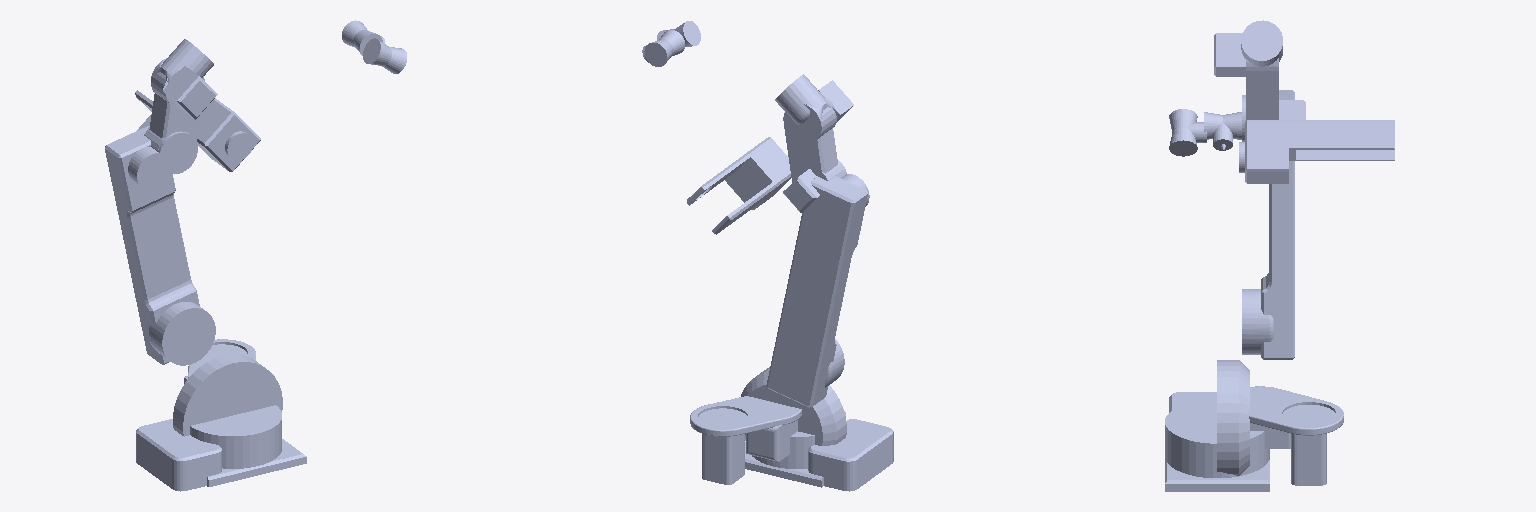
robot.urdf — robot_coco:
<?xml version="1.0" encoding="utf-8"?>
<!-- This URDF was automatically created by SolidWorks to URDF Exporter! Originally created by [author] ([email redacted]) 
     Commit Version: 1.6.0-4-g7f85cfe  Build Version: 1.6.7995.38578
     For more information, please see http://wiki.ros.org/sw_urdf_exporter -->
<robot
  name="robot_coco">
  <link
    name="base_link_coco">
    <inertial>
      <origin
        xyz="-0.0764021530191945 2.7134934886552E-05 0.0792317455056668"
        rpy="0 0 0" />
      <mass
        value="33.7641312353281" />
      <inertia
        ixx="0.388653917501998"
        ixy="4.13251669969691E-18"
        ixz="6.82570301647603E-05"
        iyy="0.347678993710906"
        iyz="9.1636908185897E-18"
        izz="0.646698533818771" />
    </inertial>
    <visual>
      <origin
        xyz="0 0 0"
        rpy="0 0 0" />
      <geometry>
        <mesh
          filename="package://robot_coco/meshes/base_link_coco.STL" />
      </geometry>
      <material
        name="">
        <color
          rgba="0.792156862745098 0.819607843137255 0.933333333333333 1" />
      </material>
    </visual>
    <collision>
      <origin
        xyz="0 0 0"
        rpy="0 0 0" />
      <geometry>
        <mesh
          filename="package://my_robot_urdf/meshes/base_link_coco.STL" />
      </geometry>
    </collision>
  </link>
  <link
    name="arm_link_1_coco">
    <inertial>
      <origin
        xyz="-0.0310954578647586 0.00332496023117711 0.134341853376388"
        rpy="0 0 0" />
      <mass
        value="28.7973325809481" />
      <inertia
        ixx="0.316024916828851"
        ixy="-0.000189061034524889"
        ixz="0.0129236801369765"
        iyy="0.322997369549128"
        iyz="0.000316914959622083"
        izz="0.500692862333896" />
    </inertial>
    <visual>
      <origin
        xyz="0 0 0"
        rpy="0 0 0" />
      <geometry>
        <mesh
          filename="package://my_robot_urdf/meshes/arm_link_1_coco.STL" />
      </geometry>
      <material
        name="">
        <color
          rgba="0.792156862745098 0.819607843137255 0.933333333333333 1" />
      </material>
    </visual>
    <collision>
      <origin
        xyz="0 0 0"
        rpy="0 0 0" />
      <geometry>
        <mesh
          filename="package://my_robot_urdf/meshes/arm_link_1_coco.STL" />
      </geometry>
    </collision>
  </link>
  <joint
    name="joint_link_1_coco"
    type="revolute">
    <origin
      xyz="0 0 0.18"
      rpy="0 0 0" />
    <parent
      link="base_link_coco" />
    <child
      link="arm_link_1_coco" />
    <axis
      xyz="0 0 1" />
    <limit
      lower="-3.1416"
      upper="3.1416"
      effort="0"
      velocity="0" />
  </joint>
  <link
    name="arm_link_2_coco">
    <inertial>
      <origin
        xyz="-0.000939286588189411 0.316348210123725 0.119016776091287"
        rpy="0 0 0" />
      <mass
        value="29.9902849835083" />
      <inertia
        ixx="2.04087599375797"
        ixy="2.71567837661912E-12"
        ixz="6.90866563725407E-18"
        iyy="0.14290036636914"
        iyz="7.40531967035574E-16"
        izz="2.11684381896841" />
    </inertial>
    <visual>
      <origin
        xyz="0 0 0"
        rpy="0 0 0" />
      <geometry>
        <mesh
          filename="package://my_robot_urdf/meshes/arm_link_2_coco.STL" />
      </geometry>
      <material
        name="">
        <color
          rgba="0.792156862745098 0.819607843137255 0.933333333333333 1" />
      </material>
    </visual>
    <collision>
      <origin
        xyz="0 0 0"
        rpy="0 0 0" />
      <geometry>
        <mesh
          filename="package://my_robot_urdf/meshes/arm_link_2_coco.STL" />
      </geometry>
    </collision>
  </link>
  <joint
    name="joint_link_2_coco"
    type="revolute">
    <origin
      xyz="-0.14579 0.090292 0.33595"
      rpy="1.5708 0.12064 -3.1416" />
    <parent
      link="arm_link_1_coco" />
    <child
      link="arm_link_2_coco" />
    <axis
      xyz="0 0 1" />
    <limit
      lower="-3.1416"
      upper="3.1416"
      effort="0"
      velocity="0" />
  </joint>
  <link
    name="arm_link_3_coco">
    <inertial>
      <origin
        xyz="0.112633238505252 -0.0799322649464853 0.0667859681669811"
        rpy="0 0 0" />
      <mass
        value="16.9402164034933" />
      <inertia
        ixx="0.147883770330323"
        ixy="0.094818491141768"
        ixz="0.0176568765175328"
        iyy="0.195654931378514"
        iyz="-0.0116926814719466"
        izz="0.274178448217779" />
    </inertial>
    <visual>
      <origin
        xyz="0 0 0"
        rpy="0 0 0" />
      <geometry>
        <mesh
          filename="package://my_robot_urdf/meshes/arm_link_3_coco.STL" />
      </geometry>
      <material
        name="">
        <color
          rgba="0.792156862745098 0.819607843137255 0.933333333333333 1" />
      </material>
    </visual>
    <collision>
      <origin
        xyz="0 0 0"
        rpy="0 0 0" />
      <geometry>
        <mesh
          filename="package://my_robot_urdf/meshes/arm_link_3_coco.STL" />
      </geometry>
    </collision>
  </link>
  <joint
    name="joint_link_3_coco"
    type="revolute">
    <origin
      xyz="0.0017779 0.76236 0"
      rpy="3.1416 0 2.5562" />
    <parent
      link="arm_link_2_coco" />
    <child
      link="arm_link_3_coco" />
    <axis
      xyz="0 0 -1" />
    <limit
      lower="-3.1416"
      upper="3.1416"
      effort="0"
      velocity="0" />
  </joint>
  <link
    name="arm_link_4_coco">
    <inertial>
      <origin
        xyz="0.00566743707878439 0.0432831775720403 0.283218920418927"
        rpy="0 0 0" />
      <mass
        value="7.44374239326319" />
      <inertia
        ixx="0.159458719225964"
        ixy="-2.32546035320198E-05"
        ixz="0.000318756137369379"
        iyy="0.170907372375113"
        iyz="0.00563574921699865"
        izz="0.0394445449966552" />
    </inertial>
    <visual>
      <origin
        xyz="0 0 0"
        rpy="0 0 0" />
      <geometry>
        <mesh
          filename="package://my_robot_urdf/meshes/arm_link_4_coco.STL" />
      </geometry>
      <material
        name="">
        <color
          rgba="0.792156862745098 0.819607843137255 0.933333333333333 1" />
      </material>
    </visual>
    <collision>
      <origin
        xyz="0 0 0"
        rpy="0 0 0" />
      <geometry>
        <mesh
          filename="package://my_robot_urdf/meshes/arm_link_4_coco.STL" />
      </geometry>
    </collision>
  </link>
  <joint
    name="joint_link_4_coco"
    type="revolute">
    <origin
      xyz="0.25011 -0.19918 0.073652"
      rpy="0 1.5708 0" />
    <parent
      link="arm_link_3_coco" />
    <child
      link="arm_link_4_coco" />
    <axis
      xyz="0 0 1" />
    <limit
      lower="-3.1416"
      upper="3.1416"
      effort="0"
      velocity="0" />
  </joint>
  <link
    name="arm_link_5_coco">
    <inertial>
      <origin
        xyz="0.0327073579947649 0.000399930122569447 -0.00635056152962845"
        rpy="0 0 0" />
      <mass
        value="1.52714461517355" />
      <inertia
        ixx="0.00405781083568541"
        ixy="-2.52022895116163E-06"
        ixz="-3.23424295631454E-07"
        iyy="0.00340193548011777"
        iyz="-3.63483013490502E-18"
        izz="0.00209047100682797" />
    </inertial>
    <visual>
      <origin
        xyz="0 0 0"
        rpy="0 0 0" />
      <geometry>
        <mesh
          filename="package://my_robot_urdf/meshes/arm_link_5_coco.STL" />
      </geometry>
      <material
        name="">
        <color
          rgba="0.792156862745098 0.819607843137255 0.933333333333333 1" />
      </material>
    </visual>
    <collision>
      <origin
        xyz="0 0 0"
        rpy="0 0 0" />
      <geometry>
        <mesh
          filename="package://my_robot_urdf/meshes/arm_link_5_coco.STL" />
      </geometry>
    </collision>
  </link>
  <joint
    name="joint_link_5_coco"
    type="revolute">
    <origin
      xyz="0 0.0061313 0.60723"
      rpy="1.5708 -0.32663 -1.5708" />
    <parent
      link="arm_link_4_coco" />
    <child
      link="arm_link_5_coco" />
    <axis
      xyz="0 0 1" />
    <limit
      lower="-3.1416"
      upper="3.1416"
      effort="0"
      velocity="0" />
  </joint>
  <link
    name="arm_link_6_coco">
    <inertial>
      <origin
        xyz="6.83827994230057E-15 4.91162666094169E-13 0.00209660536067713"
        rpy="0 0 0" />
      <mass
        value="0.0783717856165202" />
      <inertia
        ixx="3.89729060157441E-05"
        ixy="-4.73467751418064E-22"
        ixz="3.90642805809135E-22"
        iyy="3.89729060157441E-05"
        iyz="-1.35525271560672E-20"
        izz="7.68229526638506E-05" />
    </inertial>
    <visual>
      <origin
        xyz="0 0 0"
        rpy="0 0 0" />
      <geometry>
        <mesh
          filename="package://my_robot_urdf/meshes/arm_link_6_coco.STL" />
      </geometry>
      <material
        name="">
        <color
          rgba="0.792156862745098 0.819607843137255 0.933333333333333 1" />
      </material>
    </visual>
    <collision>
      <origin
        xyz="0 0 0"
        rpy="0 0 0" />
      <geometry>
        <mesh
          filename="package://my_robot_urdf/meshes/arm_link_6_coco.STL" />
      </geometry>
    </collision>
  </link>
  <joint
    name="arm_joint_6_coco"
    type="revolute">
    <origin
      xyz="0.088678 -0.00048689 -0.0063488"
      rpy="0 1.5708 0" />
    <parent
      link="arm_link_5_coco" />
    <child
      link="arm_link_6_coco" />
    <axis
      xyz="0 0 1" />
    <limit
      lower="-3.1416"
      upper="3.1416"
      effort="0"
      velocity="0" />
  </joint>
  <link
    name="eef_link_coco">
    <inertial>
      <origin
        xyz="-0.000160574398918121 1.1733226914501E-05 -0.0505537897313374"
        rpy="0 0 0" />
      <mass
        value="0.0881458860458235" />
      <inertia
        ixx="3.41606469042043E-05"
        ixy="-2.18364282658575E-08"
        ixz="-1.30675573106947E-07"
        iyy="3.38633990498516E-05"
        iyz="9.54819239022332E-09"
        izz="3.14208395202068E-05" />
    </inertial>
    <visual>
      <origin
        xyz="0 0 0"
        rpy="0 0 0" />
      <geometry>
        <mesh
          filename="package://my_robot_urdf/meshes/eef_link_coco.STL" />
      </geometry>
      <material
        name="">
        <color
          rgba="0.792156862745098 0.819607843137255 0.933333333333333 1" />
      </material>
    </visual>
    <collision>
      <origin
        xyz="0 0 0"
        rpy="0 0 0" />
      <geometry>
        <mesh
          filename="package://my_robot_urdf/meshes/eef_link_coco.STL" />
      </geometry>
    </collision>
  </link>
  <joint
    name="eef_joint_fixed_coco"
    type="fixed">
    <origin
      xyz="0 0 0.079322"
      rpy="0 0 0" />
    <parent
      link="arm_link_6_coco" />
    <child
      link="eef_link_coco" />
    <axis
      xyz="0 0 1" />
  </joint>
</robot>

--- Facts derived from the render (not from the file) ---
The picture shows the robot from 3 angles, left to right: view 1: azimuth 30°, elevation 25°; view 2: azimuth 150°, elevation 25°; view 3: azimuth 270°, elevation 25°; orthographic projection.
Robot: robot_coco — 8 links, 7 joints (6 revolute, 1 fixed); root link base_link_coco; default pose: every joint at zero.
Links seen in each view (by area): view 1: arm_link_2_coco, base_link_coco, arm_link_1_coco, arm_link_3_coco, arm_link_4_coco, arm_link_6_coco, arm_link_5_coco; view 2: arm_link_2_coco, arm_link_1_coco, arm_link_3_coco, base_link_coco, arm_link_4_coco, arm_link_5_coco; view 3: arm_link_1_coco, arm_link_4_coco, base_link_coco, arm_link_2_coco, arm_link_3_coco, arm_link_6_coco, arm_link_5_coco.
Link boxes in pixels (box(x1,y1,x2,y2)): arm_link_2_coco: box(105, 126, 215, 365); base_link_coco: box(136, 405, 306, 491); arm_link_1_coco: box(173, 339, 282, 436); arm_link_3_coco: box(137, 39, 217, 173); arm_link_4_coco: box(135, 90, 260, 171); arm_link_6_coco: box(363, 38, 406, 73); arm_link_5_coco: box(342, 20, 384, 55); arm_link_2_coco: box(766, 174, 869, 407); arm_link_1_coco: box(690, 367, 846, 484); arm_link_3_coco: box(775, 74, 853, 212); base_link_coco: box(745, 411, 893, 491); arm_link_4_coco: box(687, 137, 790, 234); arm_link_5_coco: box(642, 30, 684, 66); arm_link_1_coco: box(1217, 360, 1343, 485); arm_link_4_coco: box(1239, 120, 1394, 183); base_link_coco: box(1165, 392, 1269, 491); arm_link_2_coco: box(1242, 90, 1294, 359); arm_link_3_coco: box(1214, 20, 1305, 141); arm_link_6_coco: box(1169, 109, 1206, 156); arm_link_5_coco: box(1204, 112, 1241, 150).
Size in the robot's own frame: 1.12 by 0.8453 by 1.8 metres.
8 mesh visuals loaded from 8 distinct referenced files (8 binary STL).
